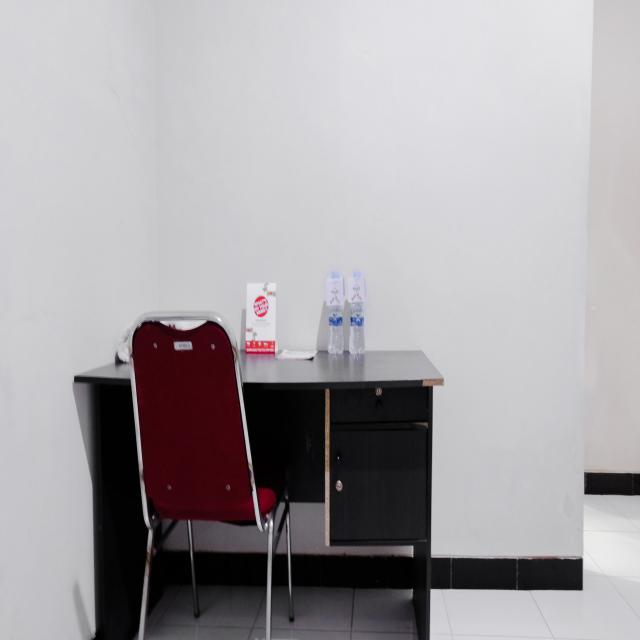Chair: (127, 301, 297, 640)
